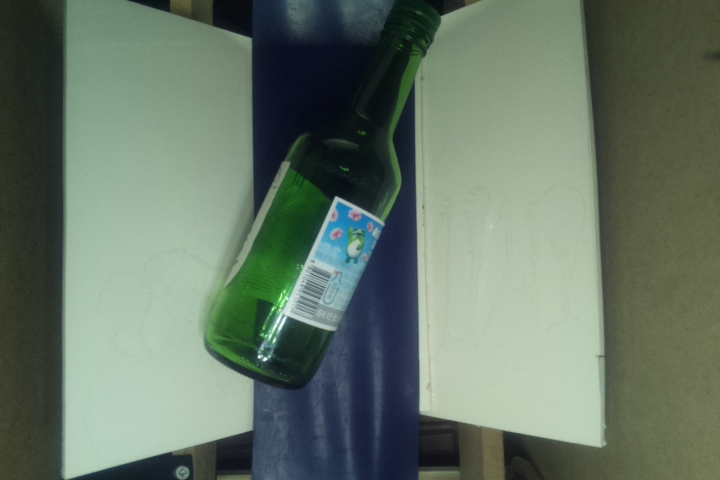soju: (207, 1, 443, 389)
